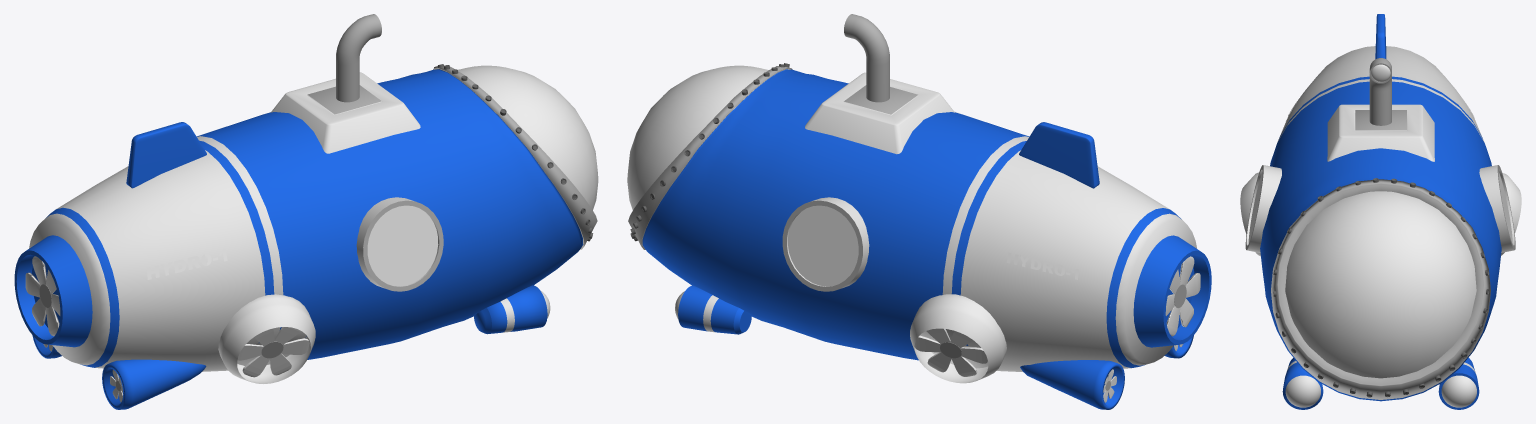
File: Hydro.fbx
3 views of the same model, side by side, from view 1: azimuth 30°, elevation 25°; view 2: azimuth 150°, elevation 25°; view 3: azimuth 270°, elevation 25° (orthographic). The views are drawn at different scales.
Parts seen in each view (by area): view 1: Cuerpo, Cabina, Cilindro.001, Cube, contornoAtras, CilindroElise, Cilindro.012, Cubo.012, Cilindro.004, Cilindro, Texto; view 2: Cuerpo, Cabina, Cilindro.007, Cube, contornoAtras, CilindroElise.001, Cubo.012, Cilindro.013, Cilindro.011, Cilindro, Texto.001; view 3: Cuerpo, Cabina, Cube, Cilindro.001, Cilindro.007, Cilindro, Esfera, Esfera.001, Cilindro.011, CilindroElise.001, Cilindro.004, CilindroElise (+2 smaller).
Boxes of the visible parts, left/top/right/bottom form: Cuerpo: left=29, top=66, right=597, bottom=371; Cabina: left=458, top=65, right=598, bottom=209; Cilindro.001: left=356, top=197, right=443, bottom=291; Cube: left=271, top=72, right=420, bottom=153; contornoAtras: left=14, top=235, right=92, bottom=347; CilindroElise: left=218, top=294, right=315, bottom=383; Cilindro.012: left=102, top=359, right=206, bottom=409; Cubo.012: left=126, top=122, right=206, bottom=188; Cilindro.004: left=474, top=285, right=547, bottom=334; Cilindro: left=336, top=14, right=381, bottom=102; Texto: left=146, top=248, right=227, bottom=279; Cuerpo: left=628, top=66, right=1196, bottom=371; Cabina: left=627, top=65, right=768, bottom=209; Cilindro.007: left=782, top=197, right=869, bottom=291; Cube: left=805, top=72, right=954, bottom=154; contornoAtras: left=1133, top=235, right=1211, bottom=347; CilindroElise.001: left=910, top=294, right=1006, bottom=383; Cubo.012: left=1019, top=122, right=1099, bottom=188; Cilindro.013: left=1020, top=360, right=1124, bottom=409; Cilindro.011: left=678, top=285, right=751, bottom=334; Cilindro: left=844, top=14, right=889, bottom=102; Texto.001: left=1006, top=252, right=1078, bottom=279; Cuerpo: left=1260, top=46, right=1501, bottom=401; Cabina: left=1285, top=191, right=1476, bottom=378; Cube: left=1327, top=104, right=1434, bottom=161; Cilindro.001: left=1245, top=165, right=1281, bottom=252; Cilindro.007: left=1479, top=165, right=1515, bottom=252; Cilindro: left=1369, top=58, right=1391, bottom=125; Esfera: left=1285, top=375, right=1320, bottom=407; Esfera.001: left=1441, top=375, right=1476, bottom=407; Cilindro.011: left=1438, top=358, right=1479, bottom=409; CilindroElise.001: left=1501, top=173, right=1521, bottom=255; Cilindro.004: left=1282, top=358, right=1323, bottom=409; CilindroElise: left=1240, top=172, right=1260, bottom=256.
Size of the model in its own units: 783 by 436 by 372.
